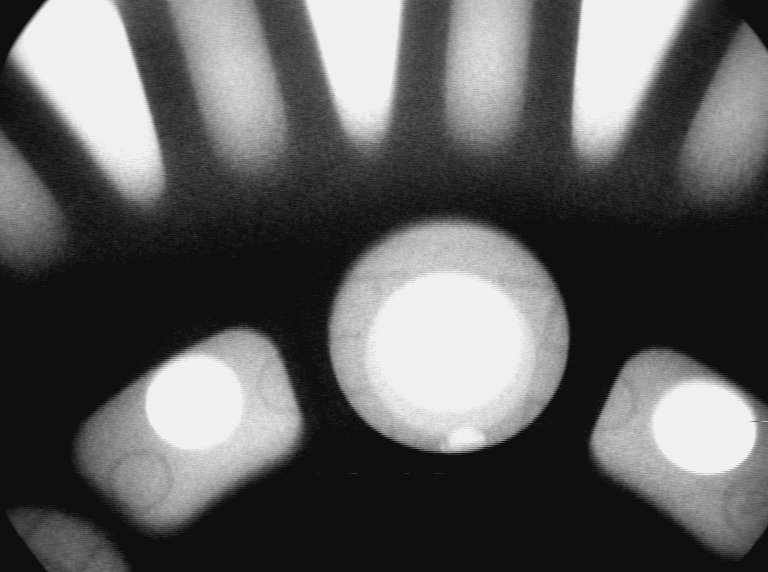defect: (441, 425, 490, 459)
